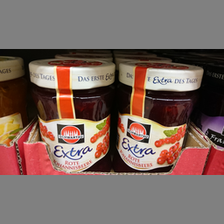jam: (114, 60, 204, 173), (28, 58, 114, 173)
